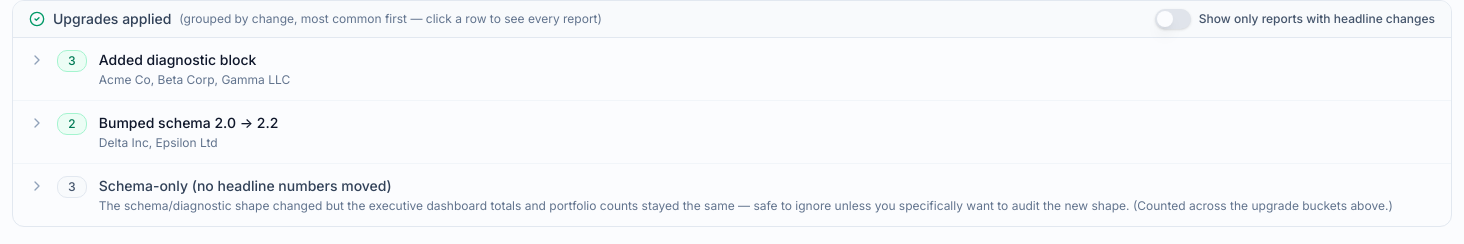
UpgradesAppliedPanel — schema-only filter toggle › flips badges to 'X of Y' and updates the examples line when the toggle is on
Click the switch at (1173, 19), box [1155,9,1191,29]
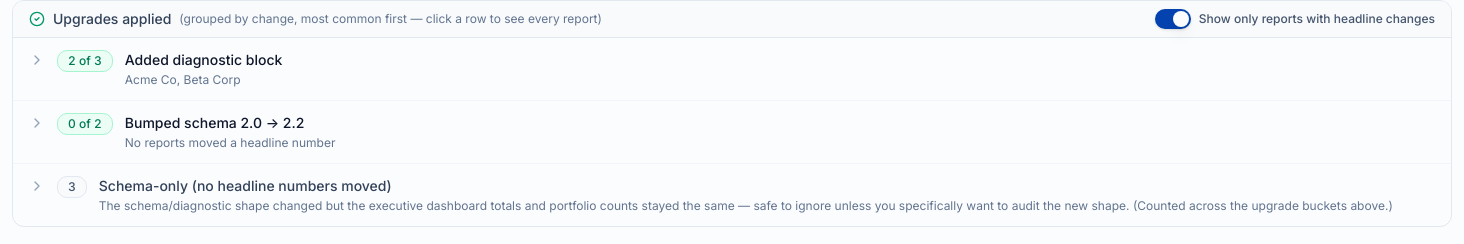
Expected: the text "2 of 3" is shown, [57,50,113,72]
Expected: the text "0 of 2" is shown, [57,113,113,135]
Expected: the text "No reports moved a headline number" is shown, [125,135,335,150]
